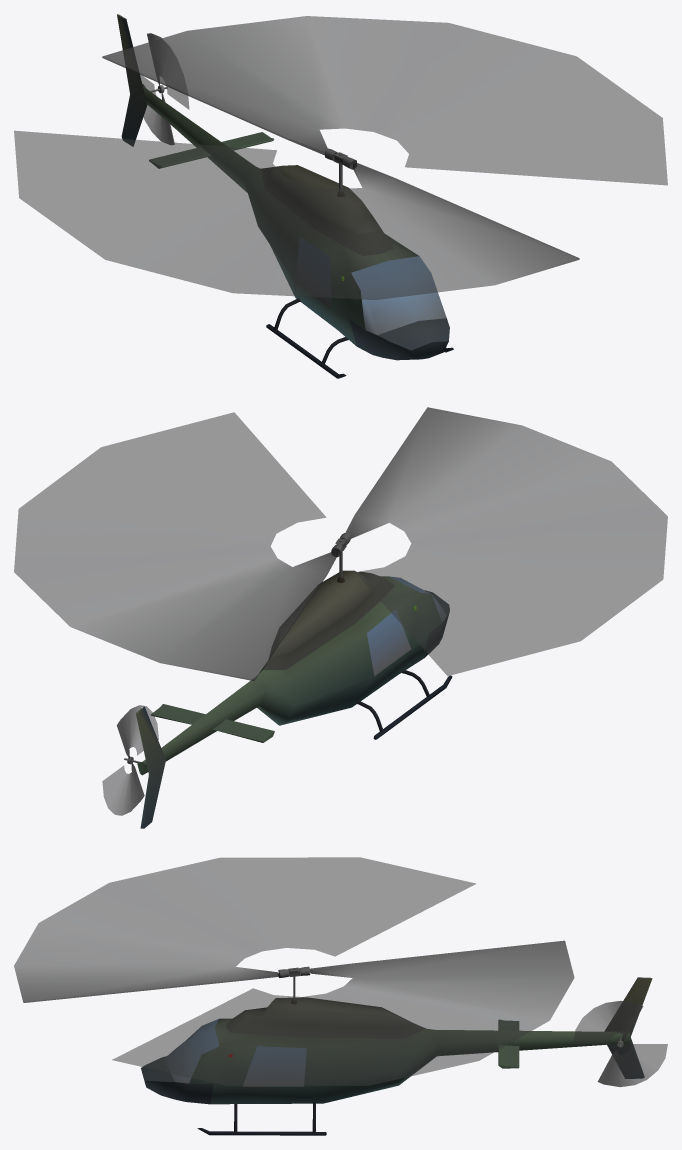
The model's file is vehicles-aircraft-helicopter_v1.glb.
3 renders of one model, top to bottom at view 1: azimuth 30°, elevation 25°; view 2: azimuth 150°, elevation 25°; view 3: azimuth 270°, elevation 25°, orthographic. The views are drawn at different scales.
Visible parts, largest first — view 1: Helicopter_v1.002, Helicopter_v1.001, Helicopter_v1; view 2: Helicopter_v1.002, Helicopter_v1.001, Helicopter_v1; view 3: Helicopter_v1.002, Helicopter_v1.001, Helicopter_v1.
Boxes of the visible parts, x1=… form: Helicopter_v1.002: x1=14, y1=16, x2=667, y2=299; Helicopter_v1.001: x1=117, y1=14, x2=453, y2=378; Helicopter_v1: x1=295, y1=237, x2=446, y2=335; Helicopter_v1.002: x1=14, y1=407, x2=667, y2=815; Helicopter_v1.001: x1=124, y1=540, x2=452, y2=828; Helicopter_v1: x1=367, y1=576, x2=446, y2=675; Helicopter_v1.002: x1=14, y1=857, x2=667, y2=1087; Helicopter_v1.001: x1=141, y1=968, x2=652, y2=1135; Helicopter_v1: x1=164, y1=1019, x2=306, y2=1086.
Bounding box in the file's own units: 10.76 × 3.19 × 13.
